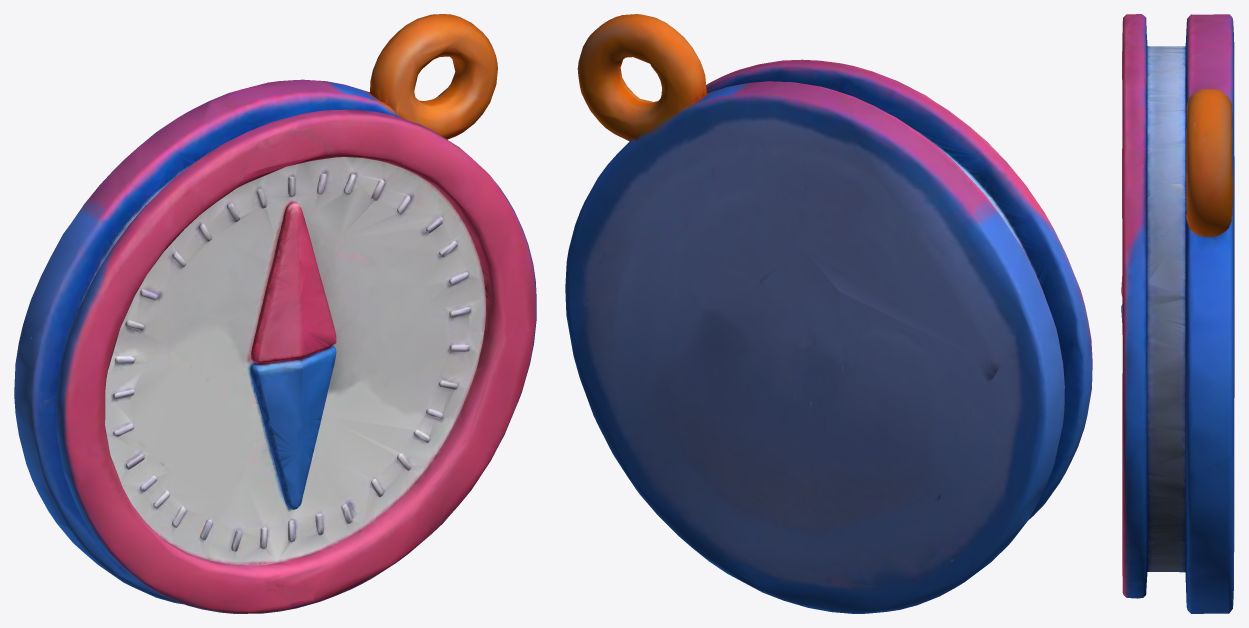
The model's file is compasss__main__r1__p3.glb.
3 renders of one model, left to right at view 1: azimuth 30°, elevation 25°; view 2: azimuth 150°, elevation 25°; view 3: azimuth 270°, elevation 25°, orthographic. The views are drawn at different scales.
Visible parts, largest first — view 1: model; view 2: model; view 3: model.
Part boxes in pixels (box(x1,y1,x2,y2)): model: box(14, 14, 536, 613); model: box(565, 14, 1092, 613); model: box(1121, 14, 1234, 613).
Size of the model in its own units: 1.65 by 1.76 by 0.3112.
Materials: 1 (1 with a texture image).
